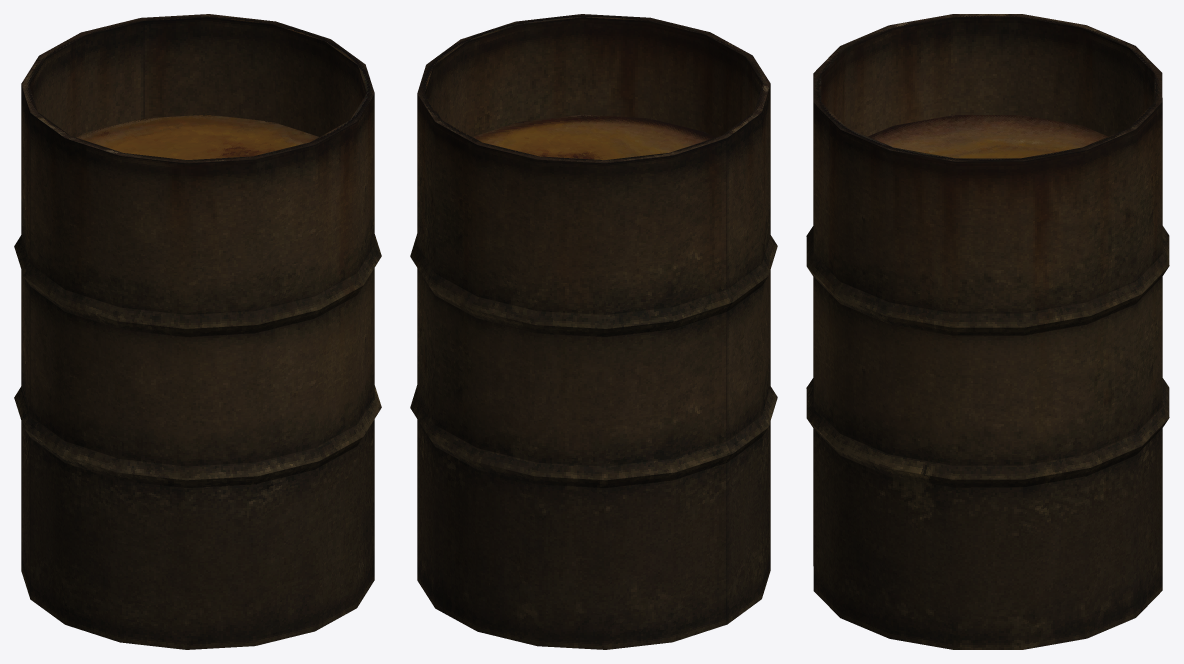
File: metal_barrel_hr_3.glb
3 renders of one model, left to right at view 1: azimuth 30°, elevation 25°; view 2: azimuth 150°, elevation 25°; view 3: azimuth 270°, elevation 25°, orthographic.
Visible parts, largest first — view 1: metal_barrel_hr_3; view 2: metal_barrel_hr_3; view 3: metal_barrel_hr_3.
Part boxes in pixels (left/top/right/bottom): metal_barrel_hr_3: left=14, top=14, right=381, bottom=649; metal_barrel_hr_3: left=410, top=14, right=777, bottom=649; metal_barrel_hr_3: left=806, top=14, right=1169, bottom=649.
Bounding box in the file's own units: 0.6735 × 1 × 0.6735.
1 material, 1 textured.
